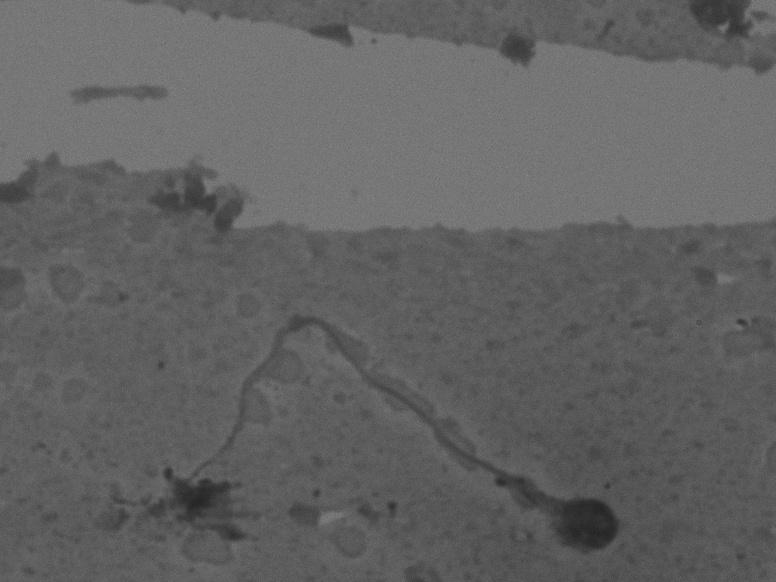Abnormal: (96, 285, 643, 578)
